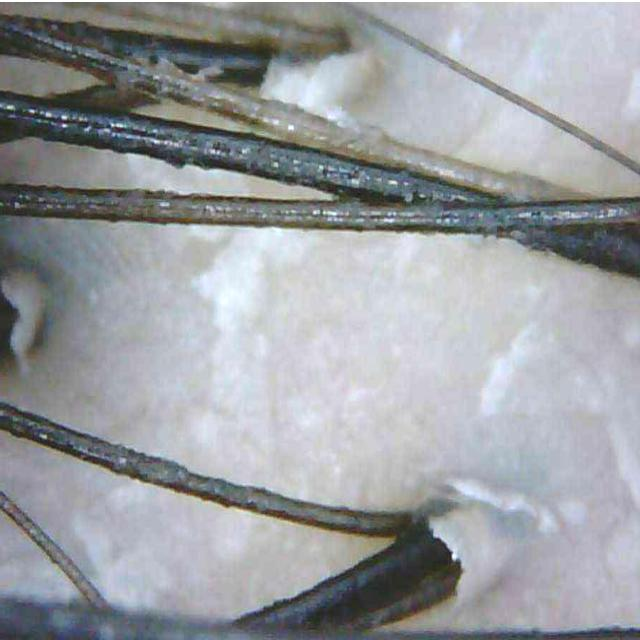d: (260, 52, 371, 117), (449, 479, 535, 515), (2, 274, 46, 342)
